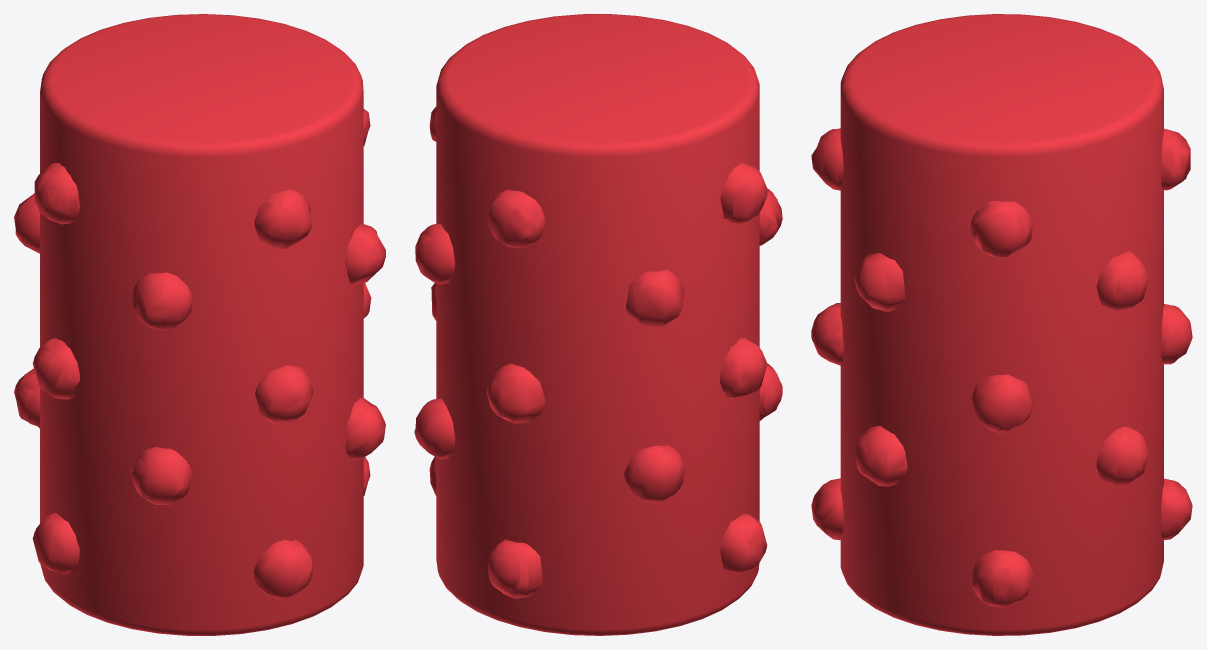
File: barrier-1.fbx
The picture shows the model from 3 angles, left to right: view 1: azimuth 30°, elevation 25°; view 2: azimuth 150°, elevation 25°; view 3: azimuth 270°, elevation 25°; orthographic projection.
Parts seen in each view (by area): view 1: Cylinder; view 2: Cylinder; view 3: Cylinder.
Part boxes in pixels (box(x1,y1,x2,y2)): Cylinder: box(14, 14, 385, 635); Cylinder: box(414, 14, 782, 635); Cylinder: box(811, 14, 1192, 635).
Bounding box in the file's own units: 132 × 188 × 132.
